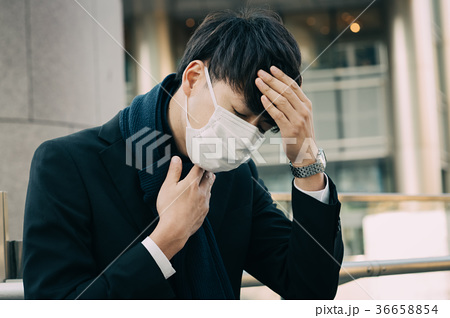mask: (191, 115, 261, 179)
